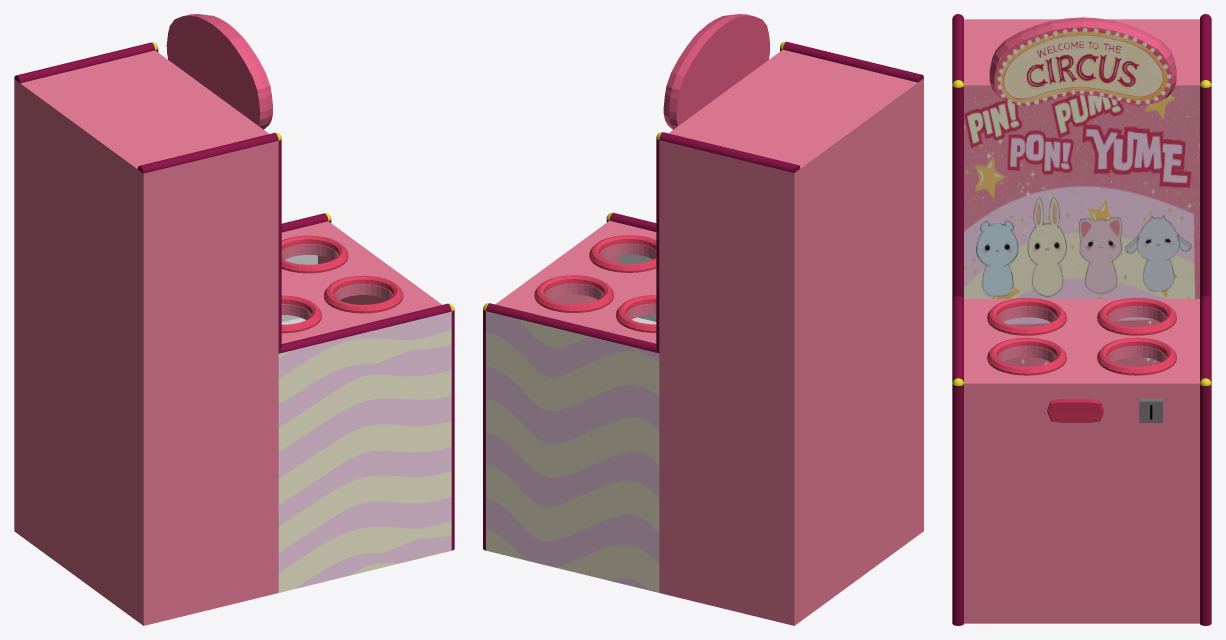
Rendered from CajaPinPonPum 4.fbx.
The picture shows the model from 3 angles, left to right: view 1: azimuth 30°, elevation 25°; view 2: azimuth 150°, elevation 25°; view 3: azimuth 270°, elevation 25°; orthographic projection.
Visible parts, largest first — view 1: Cube.001, Cube.005, Circus Letrero, Cube.007, Cube.004, Cylinder.005, Cylinder, Cylinder.009, Cylinder.006, Cylinder.003, Cylinder.007, Cylinder.004 (+1 smaller); view 2: Cube.001, Cube, Circus Letrero, Cube.007, Cube.004, Cylinder.010, Cylinder.003, Cylinder.009, Cylinder.006, Cylinder, Cylinder.011, Cylinder.002 (+1 smaller); view 3: Cube.004, Cube.001, Circus Letrero, Cube.007, Cylinder.007, Cylinder.008, Cylinder.004, Cylinder.011, Cylinder.003, Cylinder, Cylinder.001, Cylinder.002 (+6 smaller).
Part boxes in pixels (x1,y1,x2,y2): Cube.001: [14, 50, 278, 625]; Cube.005: [278, 311, 451, 592]; Circus Letrero: [166, 14, 272, 129]; Cube.007: [281, 224, 431, 343]; Cube.004: [318, 221, 442, 307]; Cylinder.005: [279, 303, 451, 353]; Cylinder: [324, 275, 403, 313]; Cylinder.009: [14, 42, 155, 83]; Cylinder.006: [137, 133, 278, 173]; Cylinder.003: [281, 235, 348, 273]; Cylinder.007: [451, 310, 454, 550]; Cylinder.004: [278, 139, 281, 353]; Cube.001: [659, 49, 923, 625]; Cube: [486, 311, 659, 592]; Circus Letrero: [663, 14, 770, 129]; Cube.007: [505, 223, 656, 343]; Cube.004: [495, 220, 619, 306]; Cylinder.010: [486, 303, 658, 353]; Cylinder.003: [534, 275, 613, 312]; Cylinder.009: [659, 132, 800, 172]; Cylinder.006: [783, 41, 923, 82]; Cylinder: [589, 235, 656, 272]; Cylinder.011: [656, 139, 659, 352]; Cylinder.002: [616, 295, 656, 332]; Cube.004: [964, 378, 1199, 623]; Cube.001: [964, 19, 1199, 366]; Circus Letrero: [989, 17, 1176, 106]; Cube.007: [964, 299, 1199, 378]; Cylinder.007: [952, 384, 963, 625]; Cylinder.008: [1200, 384, 1211, 625]; Cylinder.004: [952, 86, 963, 297]; Cylinder.011: [1200, 86, 1211, 297]; Cylinder.003: [1097, 337, 1176, 375]; Cylinder: [987, 337, 1066, 375]; Cylinder.001: [987, 298, 1066, 335]; Cylinder.002: [1097, 298, 1176, 335].
Bounding box in the file's own units: 308 × 488 × 220.
